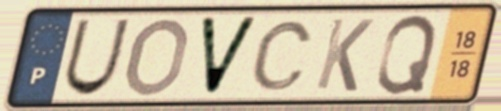C: (248, 18, 317, 94)
K: (311, 15, 377, 95)
O: (121, 15, 193, 99)
Q: (373, 12, 440, 97)
U: (59, 17, 133, 99)
V: (196, 14, 262, 99)
